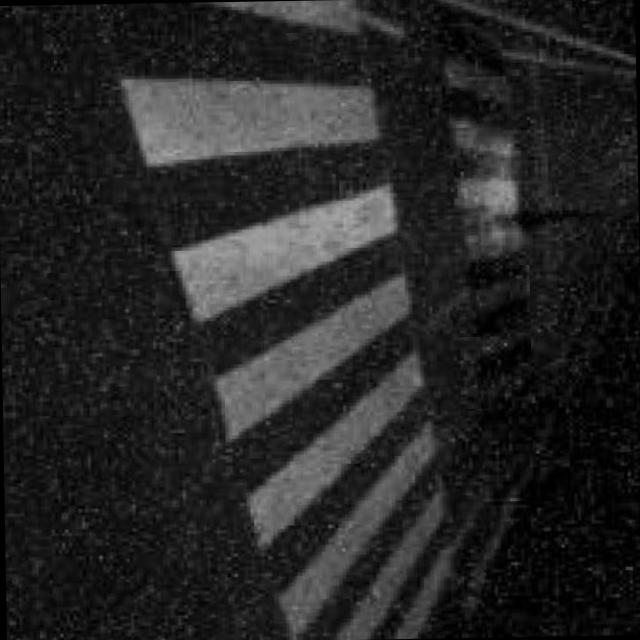zebra: (77, 0, 454, 640), (313, 0, 468, 640)
